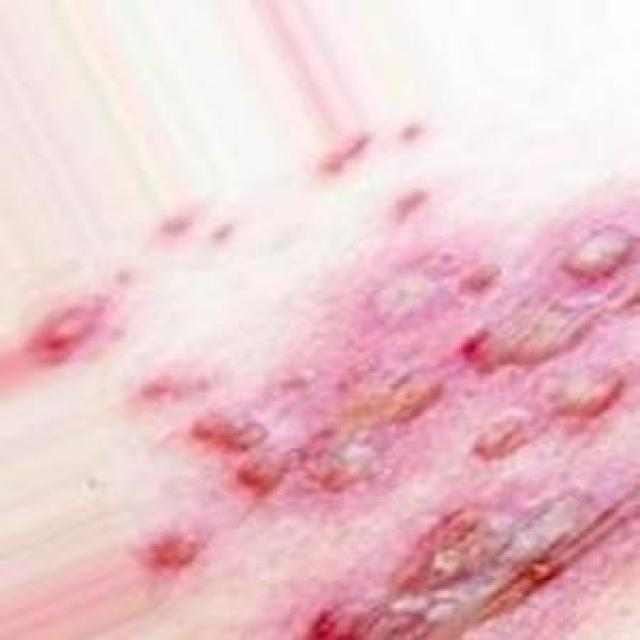Shingles: (147, 213, 639, 623)
